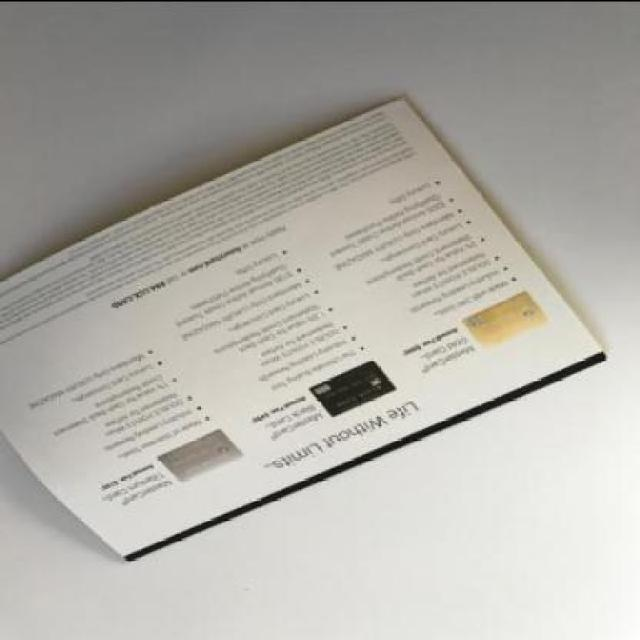PAPER: (0, 99, 605, 563)
